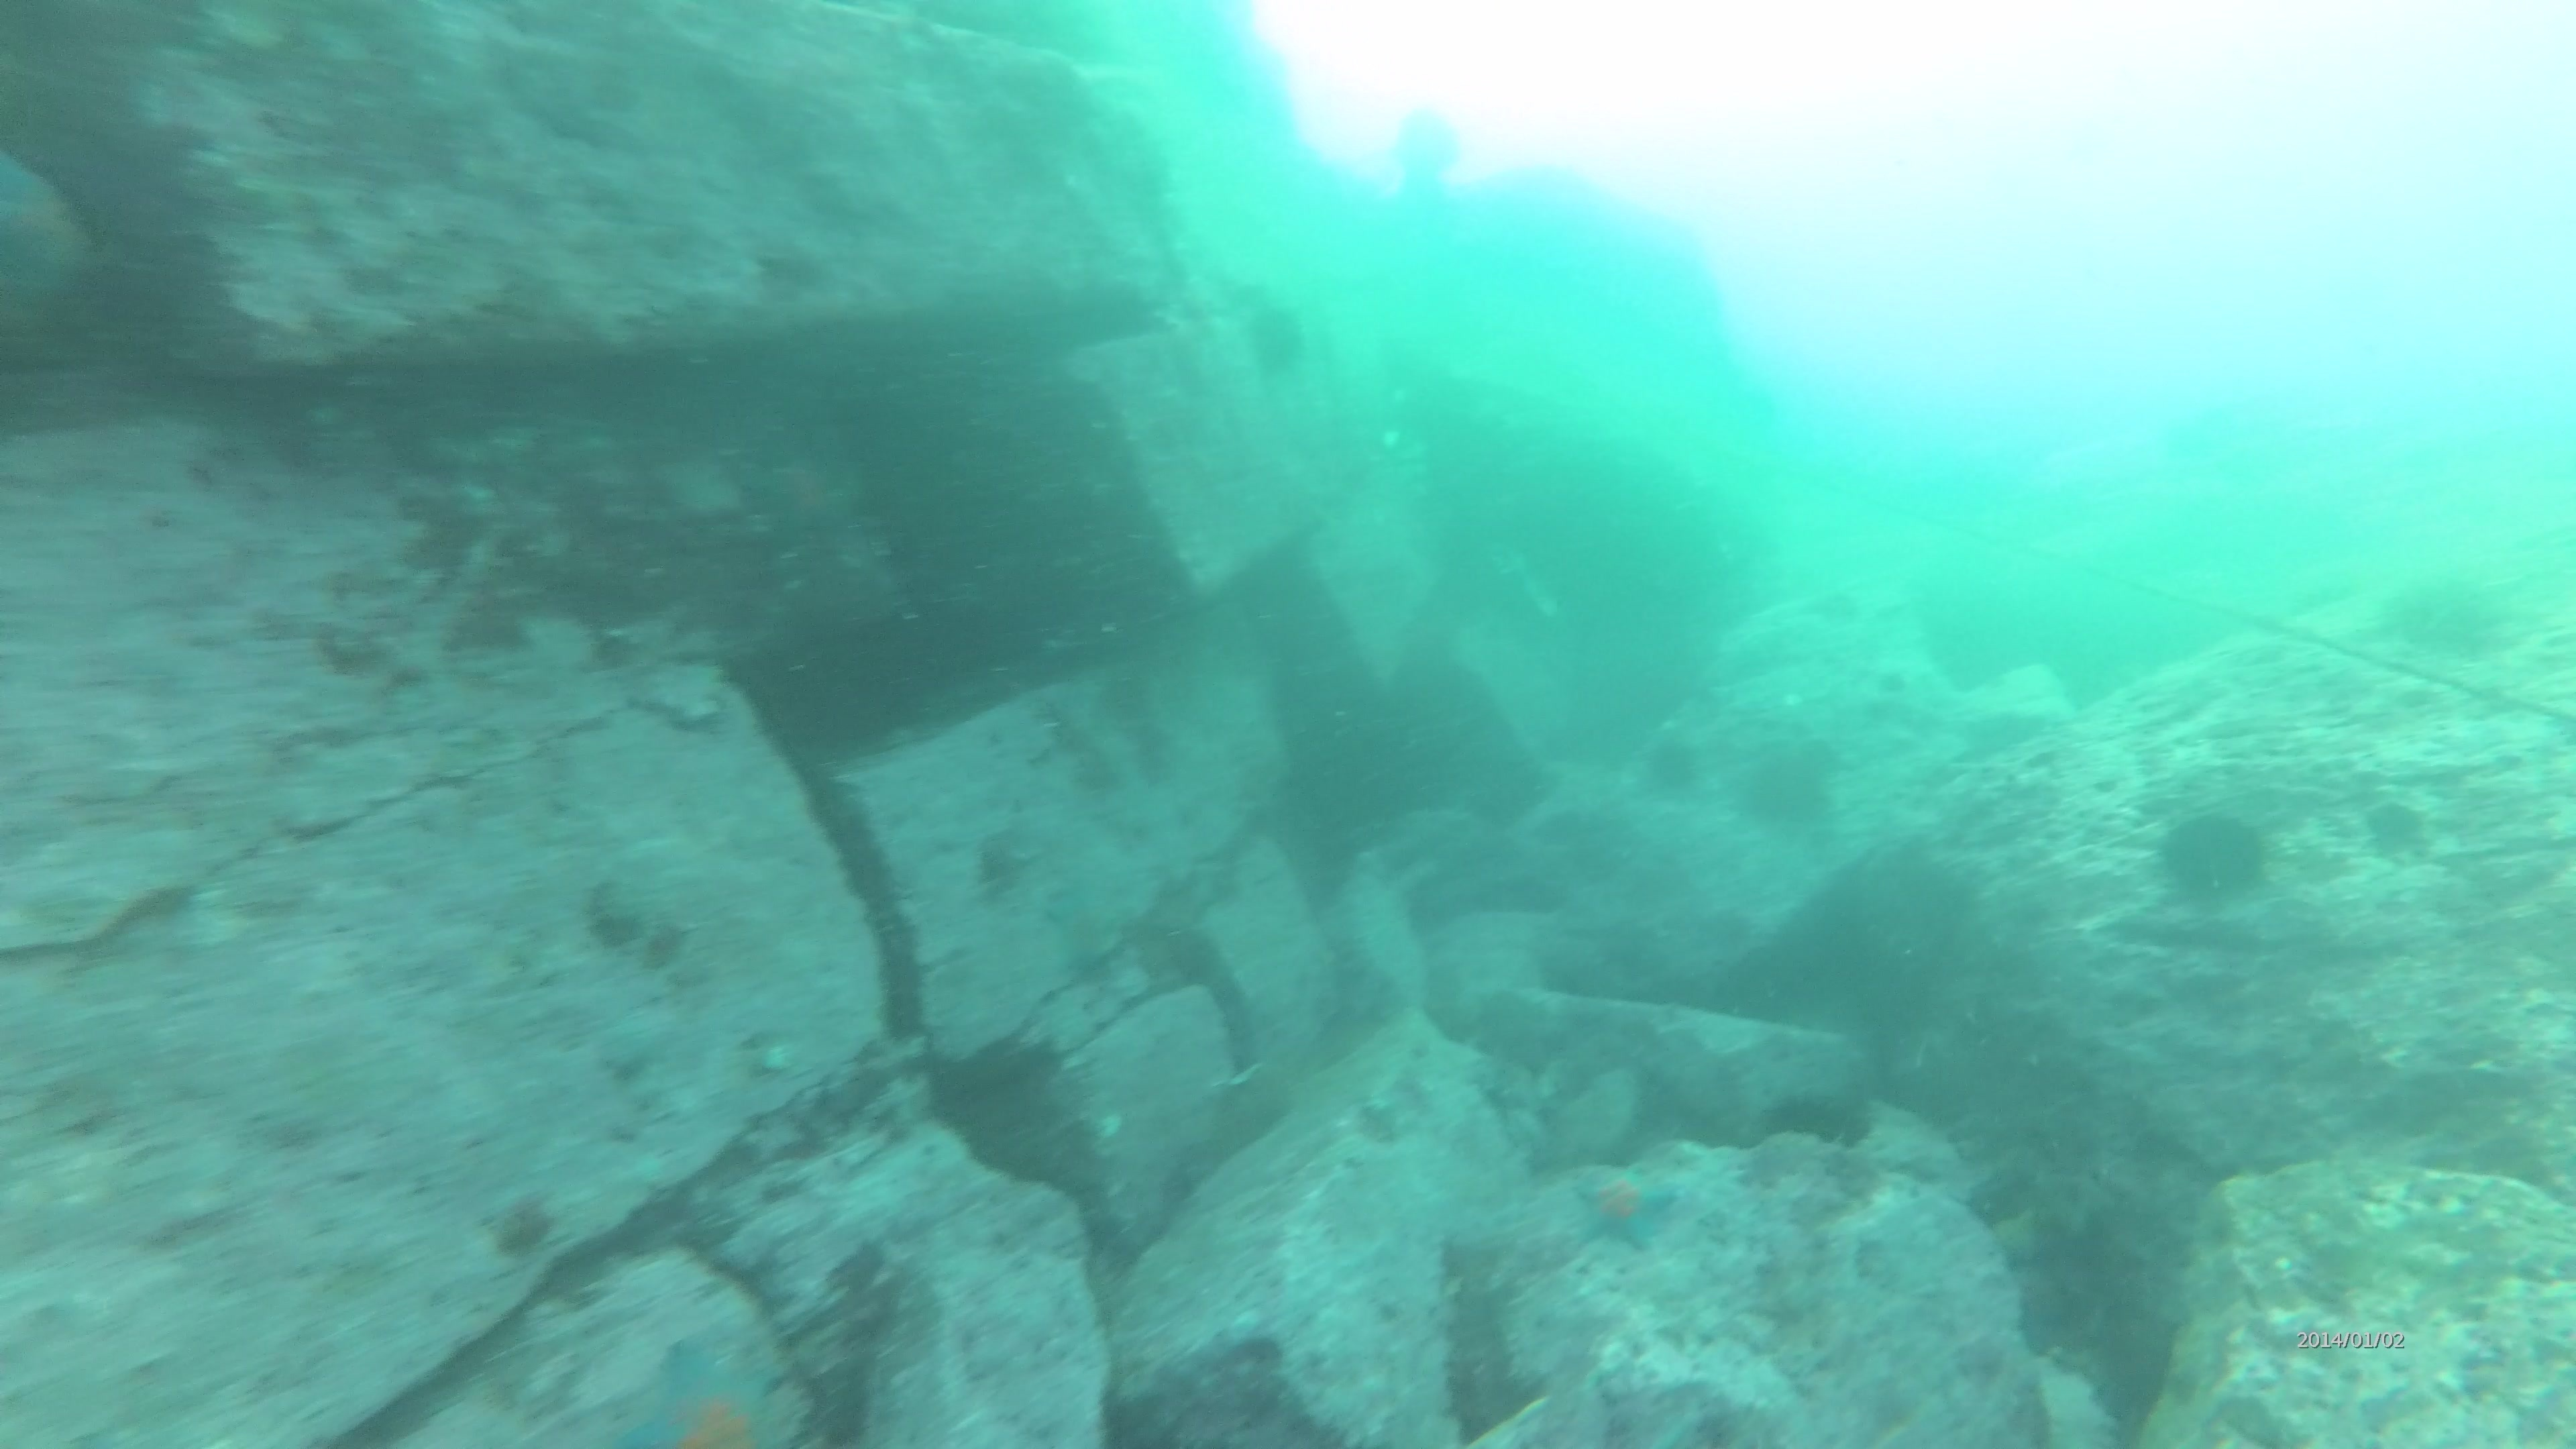echinus: (2371, 561, 2523, 669), (2148, 798, 2281, 916), (1729, 729, 1845, 840), (1235, 290, 1318, 386), (1633, 725, 1709, 805)
starfish: (609, 1330, 812, 1442), (740, 442, 869, 547), (1562, 1155, 1686, 1258)
